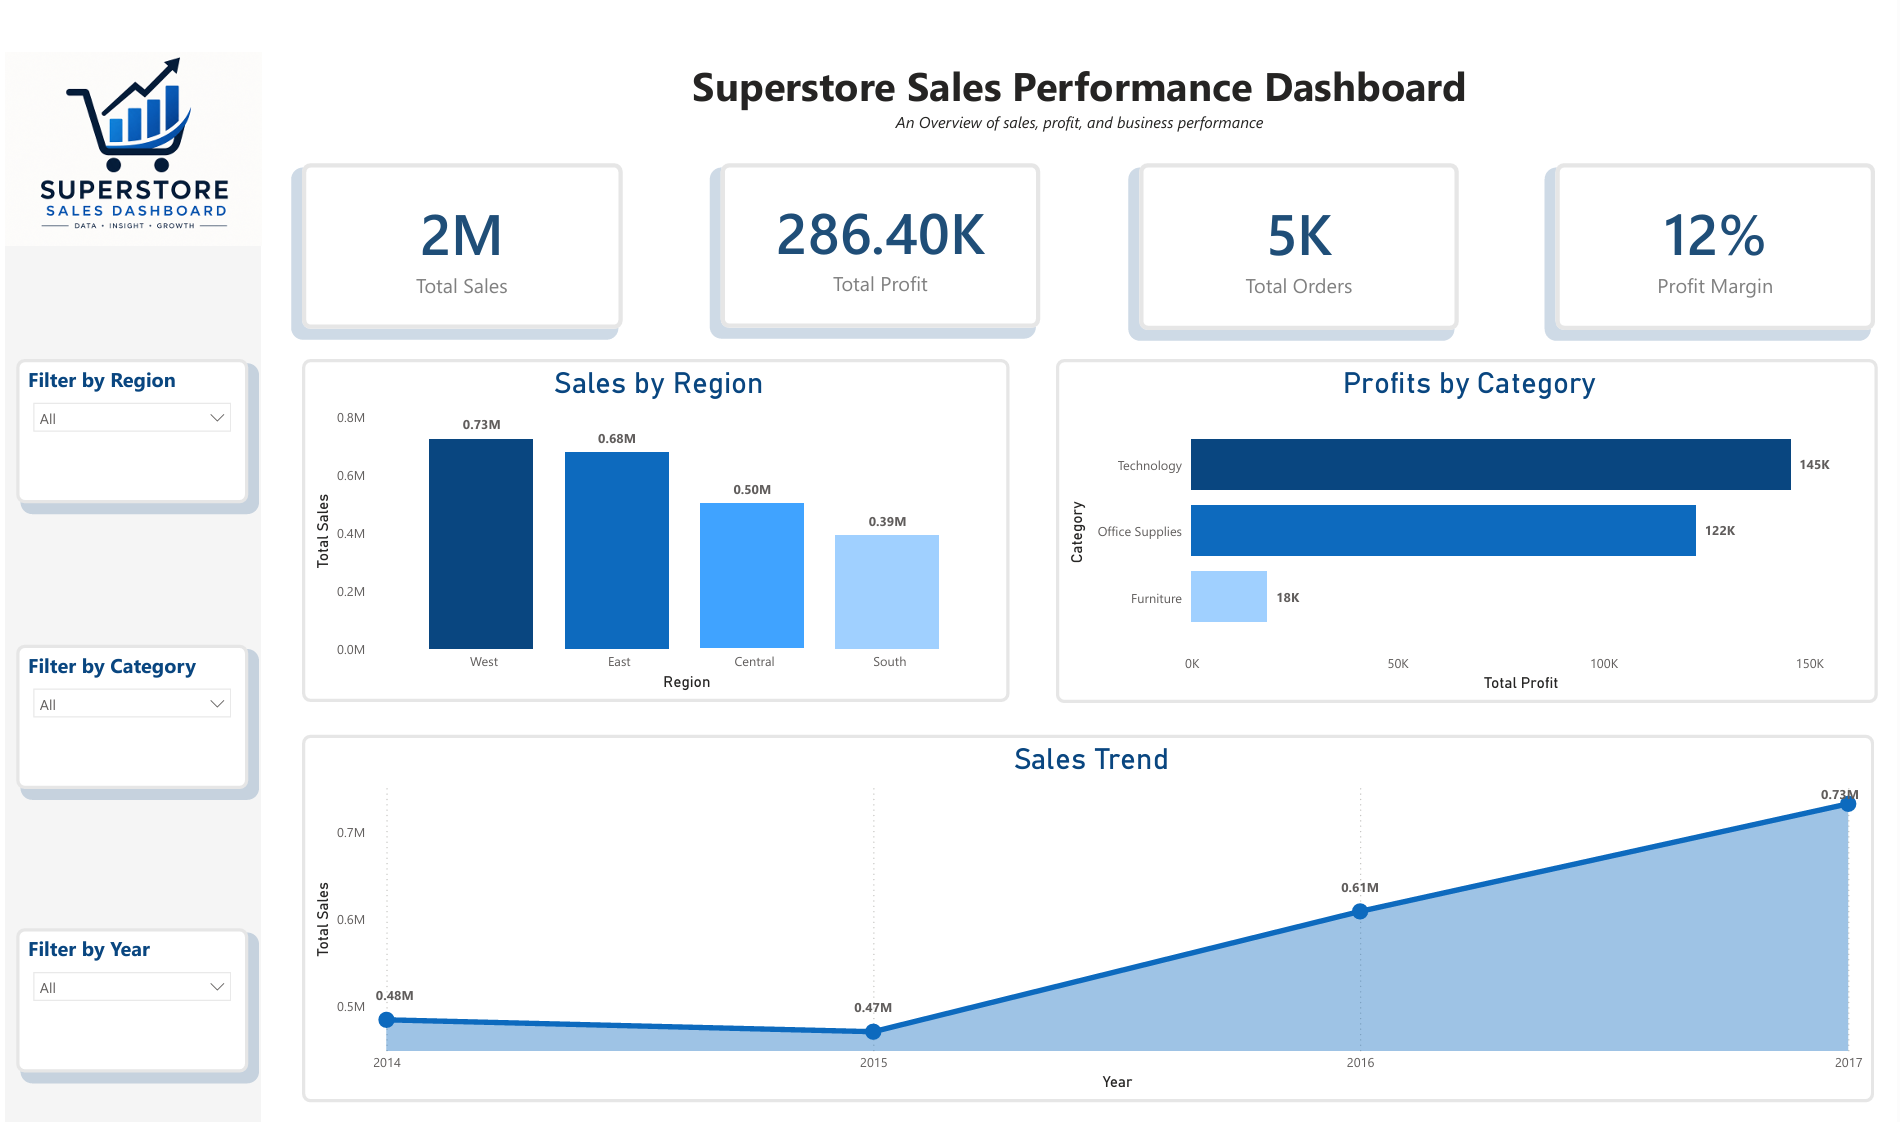

The dashboard page shown, as its layout file describes it:
{"tool":"powerbi","page":{"name":"Executive Overview","canvas":[1780,1008],"ordinal":0},"visuals":[{"type":"shape","box":[0.6,0.7,1779.4,1007.3],"z":0},{"type":"shape","box":[0,0,1779.4,1007.3],"z":1000},{"type":"shape","box":[0,0,239.3,1006.4],"z":2000},{"type":"cardVisual","fields":{"Data":["Sample - Superstore.Total Sales"]},"box":[278.6,103.2,299.6,155.1],"z":3000},{"type":"textbox","box":[259,0,1492.9,117.9],"z":4000},{"type":"cardVisual","fields":{"Data":["Sample - Superstore.Total Profits"]},"box":[644.3,661.2,296.9,157.9],"z":5000},{"type":"lineChart","title":" Sales Trend","fields":{"Y":["Sample - Superstore.Total Sales"],"Category":["Sample - Superstore.Order Date.Variation.Date Hierarchy.Year","Sample - Superstore.Order Date.Variation.Date Hierarchy.Quarter","Sample - Superstore.Order Date.Variation.Date Hierarchy.Month","Sample - Superstore.Order Date.Variation.Date Hierarchy.Day"]},"box":[278.9,638.7,1470.8,343.9],"z":6000},{"type":"clusteredColumnChart","title":" Sales by Region","fields":{"Y":["Sample - Superstore.Total Sales"],"Category":["Sample - Superstore.Region"]},"box":[278.6,286.4,662.2,320.6],"z":7000},{"type":"clusteredBarChart","title":" Profits by Category","fields":{"Y":["Sample - Superstore.Total Profits"],"Category":["Sample - Superstore.Category"]},"box":[983.4,286.4,768.6,322.2],"z":8000},{"type":"slicer","title":"Filter by Region","fields":{"Values":["Sample - Superstore.Region"]},"box":[9.8,286.4,216.9,134.8],"z":9000},{"type":"cardVisual","fields":{"Data":["Sample - Superstore.Total Profit"]},"box":[669.7,103.4,299,153.7],"z":10000},{"type":"slicer","title":"Filter by Category","fields":{"Values":["Sample - Superstore.Category"]},"box":[9.8,552.7,216.9,134.8],"z":11000},{"type":"cardVisual","fields":{"Data":["Sample - Superstore.Total Orders"]},"box":[1060.3,102.2,299,155.8],"z":12000},{"type":"slicer","title":"Filter by Year","fields":{"Values":["Sample - Superstore.Order Date"]},"box":[9.8,819.1,216.9,134.8],"z":13000},{"type":"cardVisual","fields":{"Data":["Sample - Superstore.Profit Margin"]},"box":[1450.8,103.2,299,155.8],"z":14000},{"type":"image","box":[0,0,240,181.1],"z":15000}]}

Visuals, with their boxes on the page's 1780x1008 design canvas (x1, y1, x2, y2). These are canvas units, not pixel positions in the 1900x1122 screenshot, which may show the page scaled, cropped or inside an application window:
shape: bbox=[1, 1, 1780, 1008]
shape: bbox=[0, 0, 1779, 1007]
shape: bbox=[0, 0, 239, 1006]
cardVisual - Sample - Superstore.Total Sales: bbox=[279, 103, 578, 258]
textbox: bbox=[259, 0, 1752, 118]
cardVisual - Sample - Superstore.Total Profits: bbox=[644, 661, 941, 819]
" Sales Trend" lineChart: bbox=[279, 639, 1750, 983]
" Sales by Region" clusteredColumnChart: bbox=[279, 286, 941, 607]
" Profits by Category" clusteredBarChart: bbox=[983, 286, 1752, 609]
"Filter by Region" slicer: bbox=[10, 286, 227, 421]
cardVisual - Sample - Superstore.Total Profit: bbox=[670, 103, 969, 257]
"Filter by Category" slicer: bbox=[10, 553, 227, 688]
cardVisual - Sample - Superstore.Total Orders: bbox=[1060, 102, 1359, 258]
"Filter by Year" slicer: bbox=[10, 819, 227, 954]
cardVisual - Sample - Superstore.Profit Margin: bbox=[1451, 103, 1750, 259]
image: bbox=[0, 0, 240, 181]
